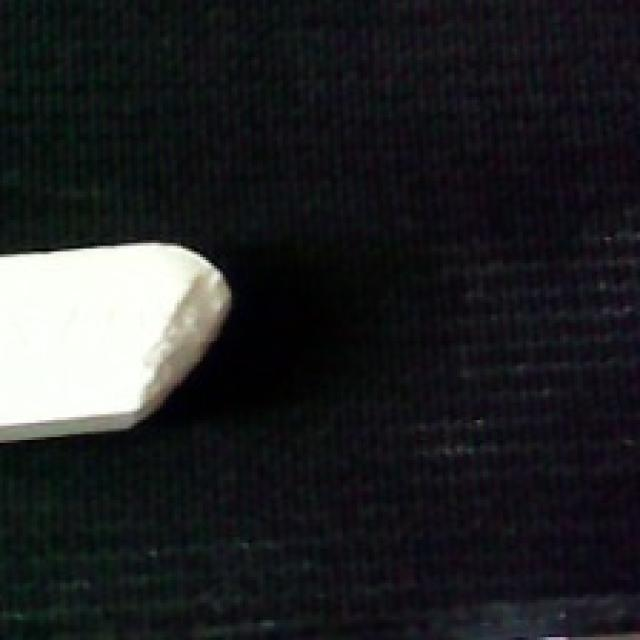defected: (0, 234, 240, 446)
